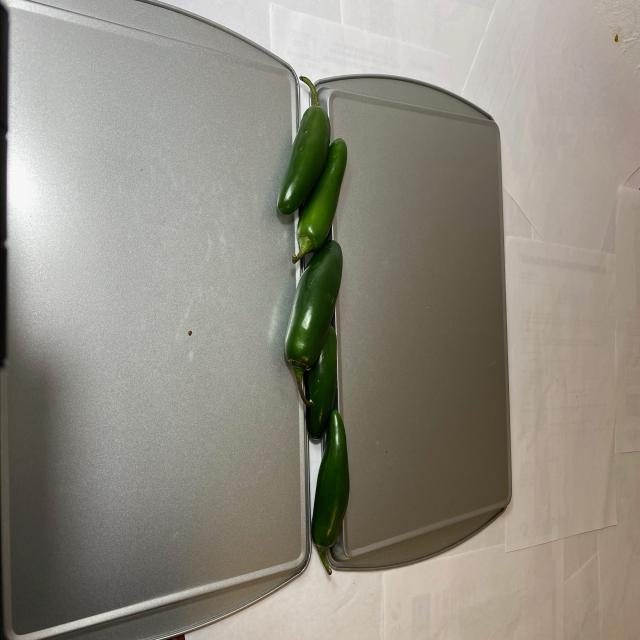chilli: (281, 76, 351, 583)
